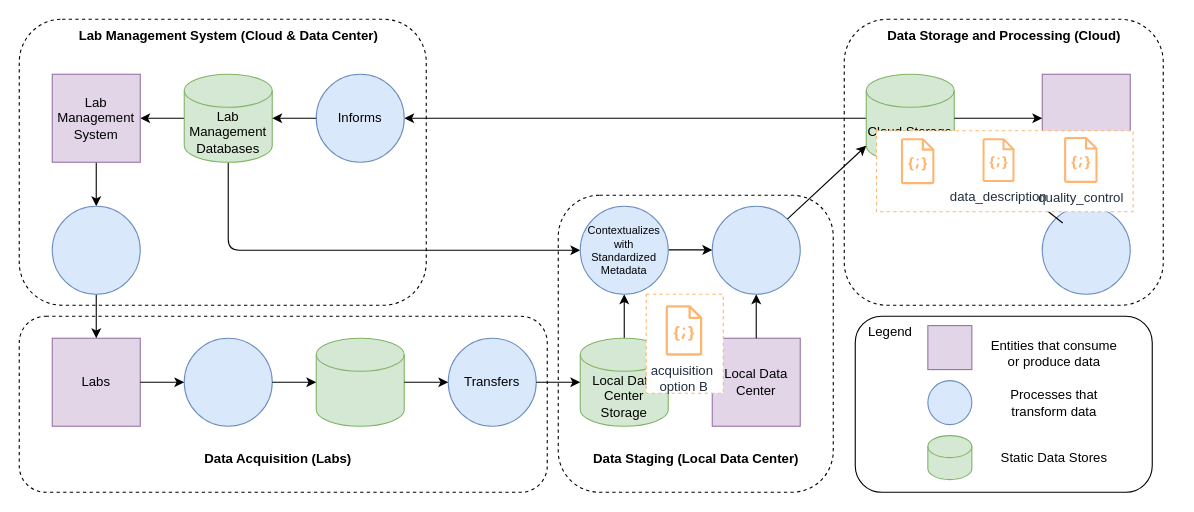
The diagram is 1194 pixels wide and 512 high, and some of its shapes have lost their labels. The shapes that lost their labels are listed below. From the top down, each one's box as (x1, y1, x2, y2) in pixels, then its label:
(1041, 73, 1130, 162): Cloud Data Center
(900, 137, 934, 184): processing
(51, 205, 140, 294): Instructs
(711, 205, 800, 294): Compresses, Formats, Uploads
(1041, 205, 1130, 294): Process Analyze QC
(183, 337, 272, 426): Acquires
(315, 337, 404, 426): Local Storage
